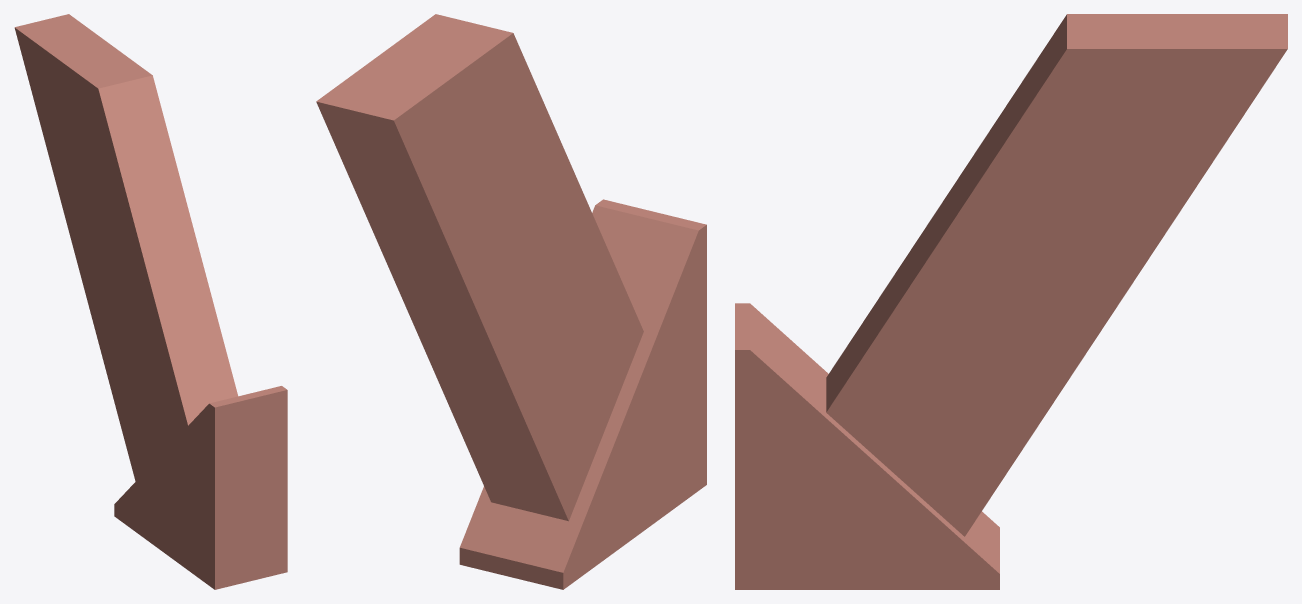
File: BasicSupport02Base.fbx
The picture shows the model from 3 angles, left to right: view 1: azimuth 30°, elevation 25°; view 2: azimuth 150°, elevation 25°; view 3: azimuth 270°, elevation 25°; orthographic projection. The views are drawn at different scales.
Parts seen in each view (by area): view 1: BasicSupport02Base.002; view 2: BasicSupport02Base.002; view 3: BasicSupport02Base.002.
Boxes of the visible parts, left/top/right/bottom form: BasicSupport02Base.002: left=14, top=14, right=287, bottom=589; BasicSupport02Base.002: left=316, top=14, right=706, bottom=589; BasicSupport02Base.002: left=735, top=14, right=1287, bottom=589.
Bounding box in the file's own units: 100 × 535 × 501.
